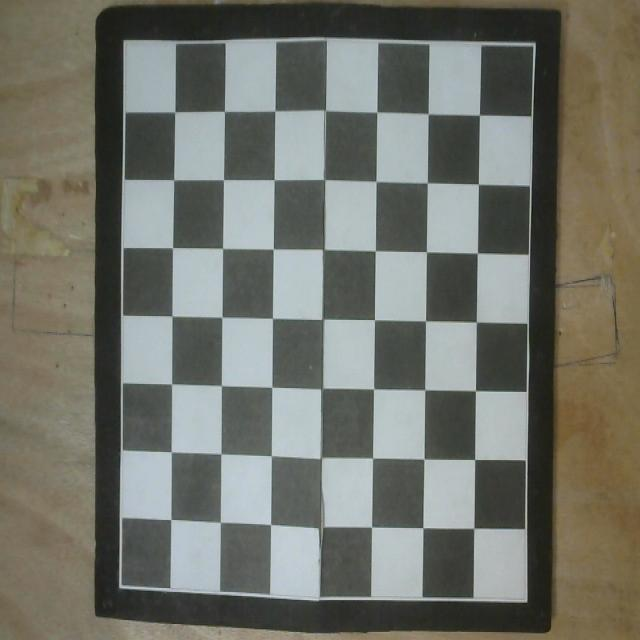chess-table-corners: (530, 41, 536, 47), (118, 582, 122, 590), (122, 39, 127, 44), (524, 598, 528, 604)
